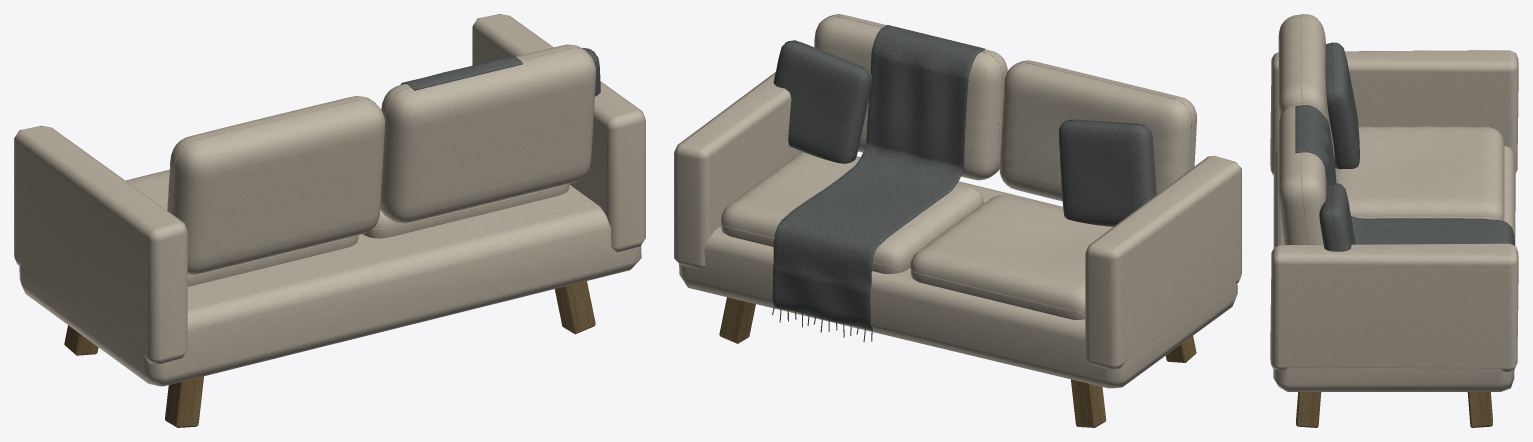
3 views of the same model, side by side, from view 1: azimuth 30°, elevation 25°; view 2: azimuth 150°, elevation 25°; view 3: azimuth 270°, elevation 25° (orthographic). The views are drawn at different scales.
Visible parts, largest first — view 1: Mesh_linen, Mesh_warm, Mesh_throw; view 2: Mesh_linen, Mesh_throw, Mesh_warm; view 3: Mesh_linen, Mesh_throw, Mesh_warm.
Boxes of the visible parts, x1=… form: Mesh_linen: x1=14, y1=14, x2=645, y2=386; Mesh_warm: x1=64, y1=281, x2=595, y2=427; Mesh_throw: x1=400, y1=48, x2=600, y2=96; Mesh_linen: x1=674, y1=14, x2=1241, y2=388; Mesh_throw: x1=772, y1=25, x2=1156, y2=342; Mesh_warm: x1=719, y1=297, x2=1196, y2=427; Mesh_linen: x1=1270, y1=14, x2=1518, y2=391; Mesh_throw: x1=1295, y1=42, x2=1514, y2=251; Mesh_warm: x1=1296, y1=392, x2=1492, y2=427.
Size of the model in its own units: 1.65 by 0.9138 by 0.8259.
Materials: 3 (3 with a texture image).
